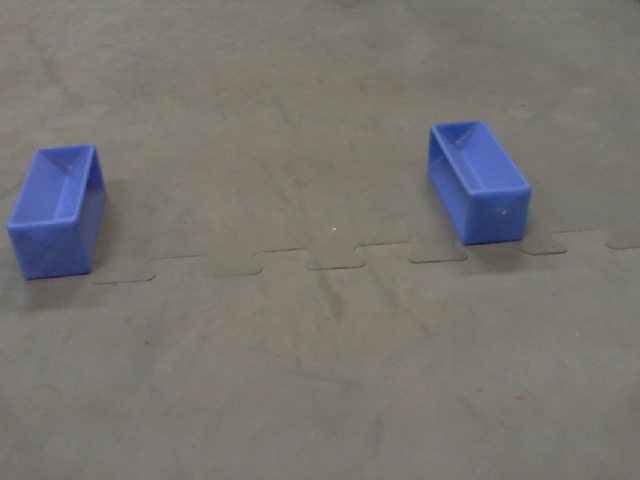BlueSample: (2, 141, 110, 283), (422, 118, 536, 249)
